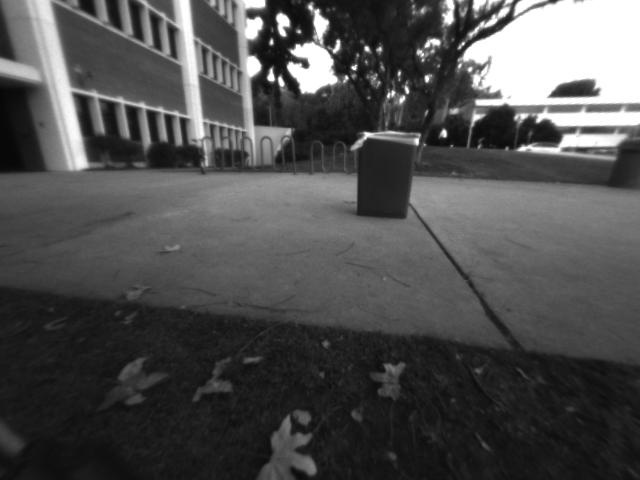trashcan_open: (353, 127, 422, 225)
